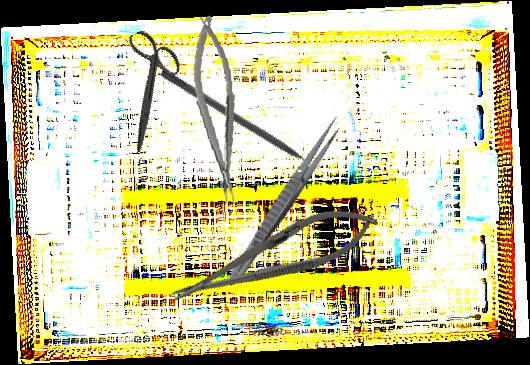Dressing Forceps: (221, 112, 348, 291)
Iris Scissors: (89, 21, 208, 154)
Needle Holder: (164, 193, 385, 320), (187, 13, 245, 207)
Pusher: (158, 67, 328, 180)
